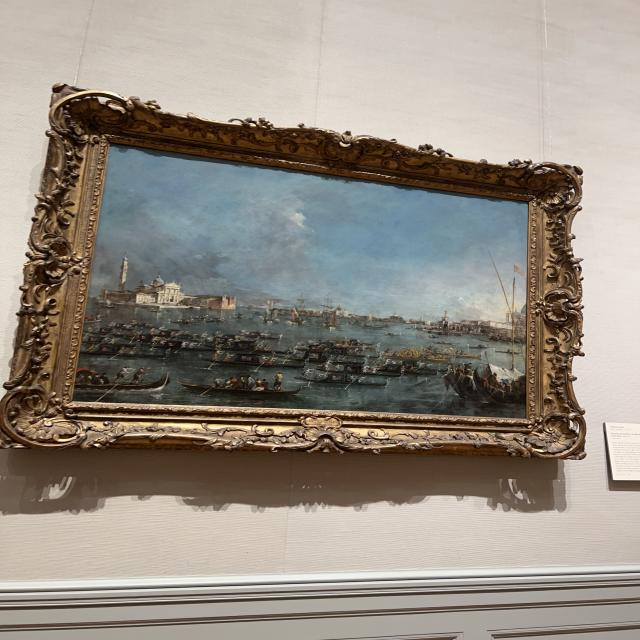ships: (80, 154, 523, 410)
